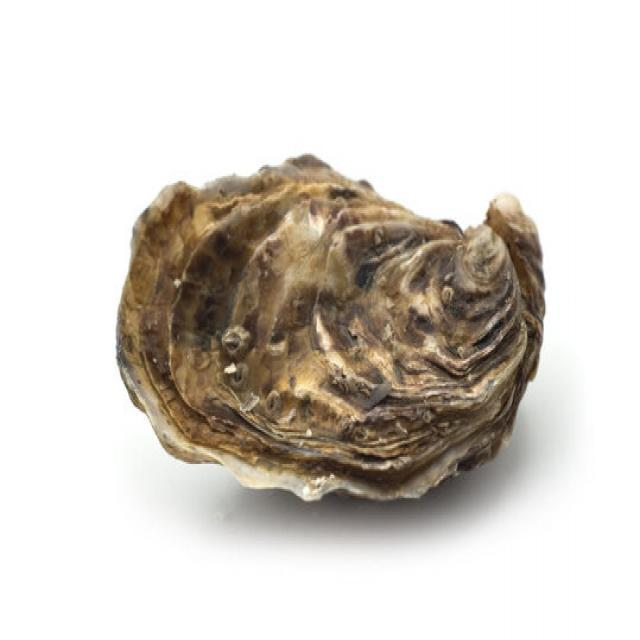Oyster- Indeterminate: (116, 152, 546, 509)
